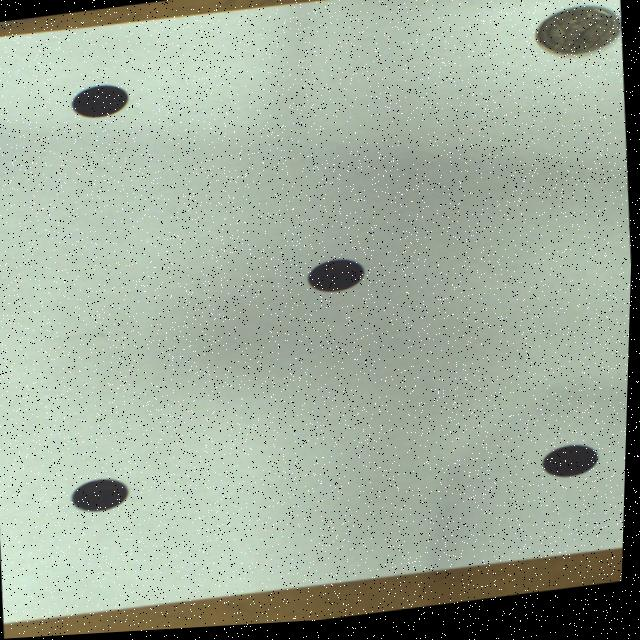space: (307, 263, 366, 296), (71, 86, 129, 119), (73, 480, 131, 513), (545, 452, 598, 484)
tail5bath: (536, 13, 618, 62)
